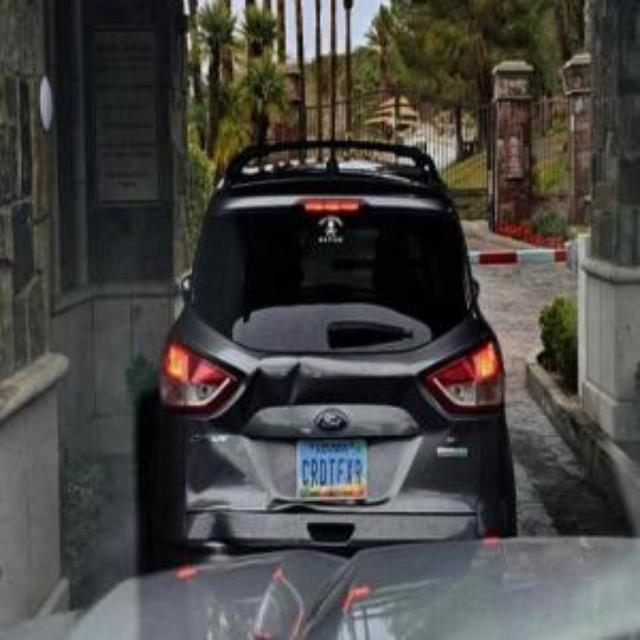License Plate: (297, 438, 366, 501)
